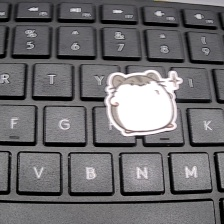mouse: (105, 68, 182, 137)
